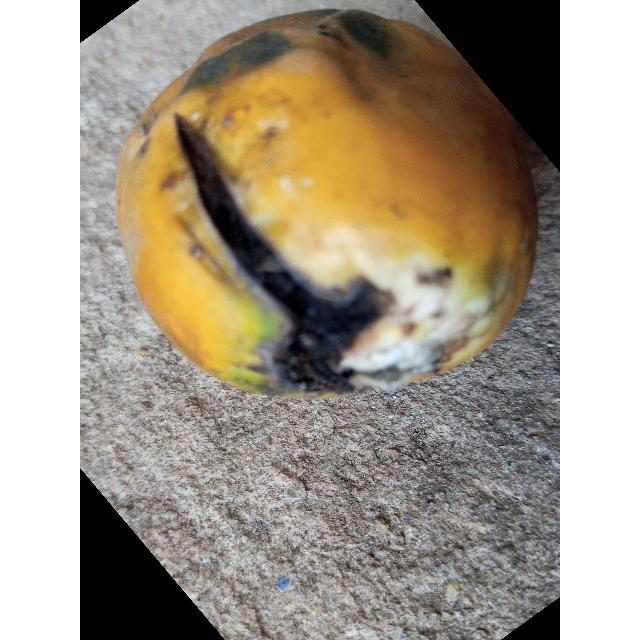damaged: (117, 10, 537, 398)
